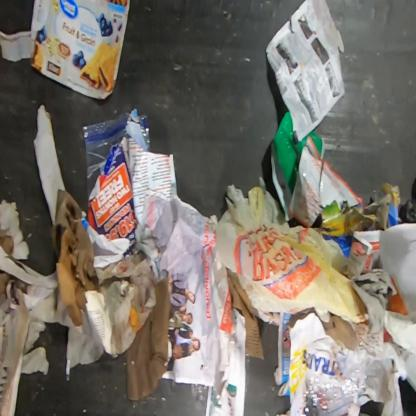cardboard: (0, 0, 131, 101), (0, 272, 51, 415), (314, 181, 404, 258), (0, 198, 60, 290), (226, 268, 265, 361)
rigid_plastic: (270, 112, 326, 222)
soft_plastic: (215, 176, 369, 324), (82, 111, 131, 201), (295, 365, 370, 415), (139, 113, 151, 153), (405, 198, 416, 223)
